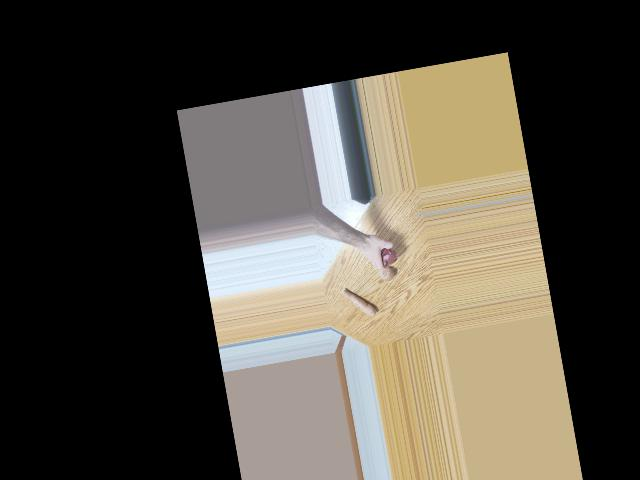onion: (374, 262, 394, 282)
